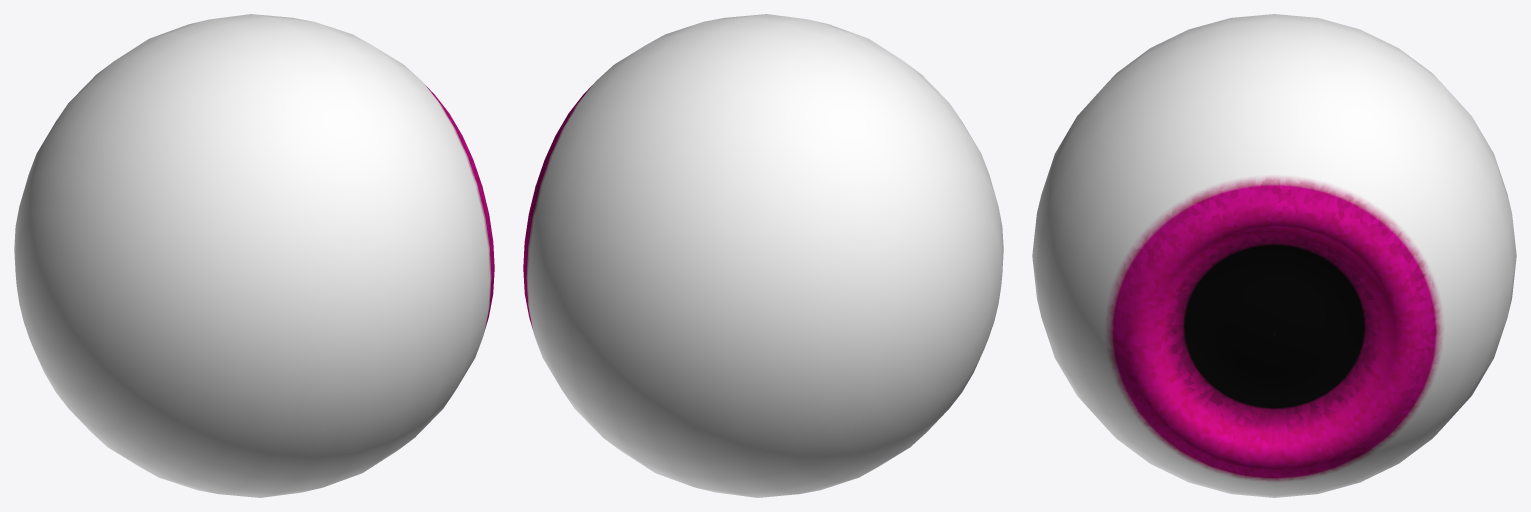
3 views of the same model, side by side, from view 1: azimuth 30°, elevation 25°; view 2: azimuth 150°, elevation 25°; view 3: azimuth 270°, elevation 25° (orthographic).
Parts seen in each view (by area): view 1: Sphere; view 2: Sphere; view 3: Sphere.
Part boxes in pixels (left/top/right/bottom): Sphere: left=14, top=14, right=494, bottom=497; Sphere: left=523, top=14, right=1003, bottom=497; Sphere: left=1032, top=14, right=1516, bottom=497.
Bounding box in the file's own units: 1.8 × 2 × 2.
1 material, 1 textured.
